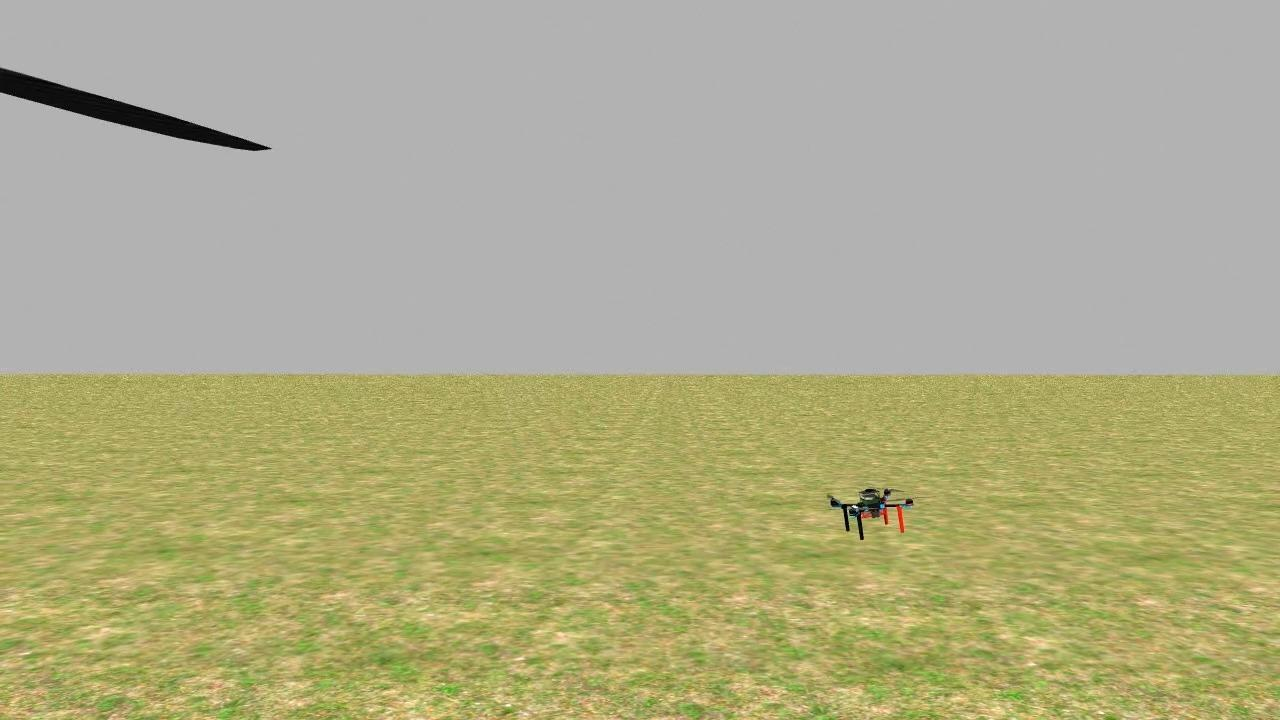UAV: (820, 473, 921, 548)
